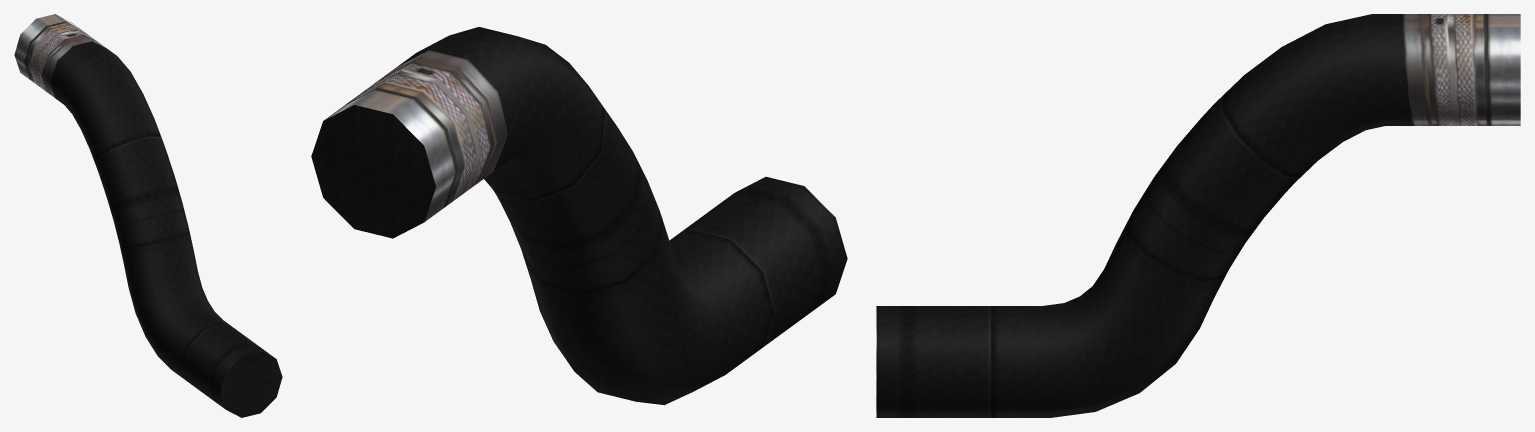
Rendered from SM_Hose12.fbx.
3 renders of one model, left to right at view 1: azimuth 30°, elevation 25°; view 2: azimuth 150°, elevation 25°; view 3: azimuth 270°, elevation 25°, orthographic. The views are drawn at different scales.
Parts seen in each view (by area): view 1: SM_Hose12_LOD0; view 2: SM_Hose12_LOD0; view 3: SM_Hose12_LOD0.
Part boxes in pixels (x1=…): SM_Hose12_LOD0: x1=14, y1=14, x2=282, y2=417; SM_Hose12_LOD0: x1=311, y1=27, x2=847, y2=405; SM_Hose12_LOD0: x1=876, y1=14, x2=1520, y2=417.
Size of the model in its own units: 10.51 by 60 by 40.
Materials: 1 (1 with a texture image).
